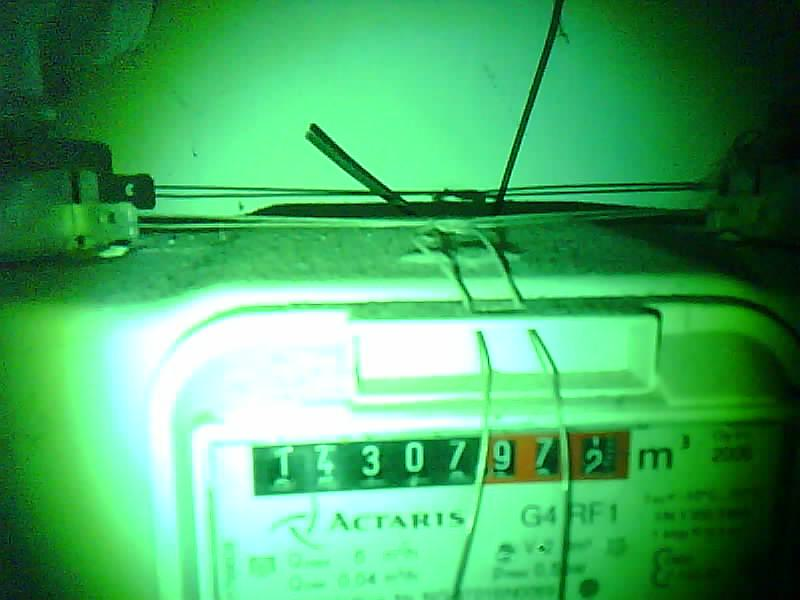nums: (251, 428, 632, 498)
